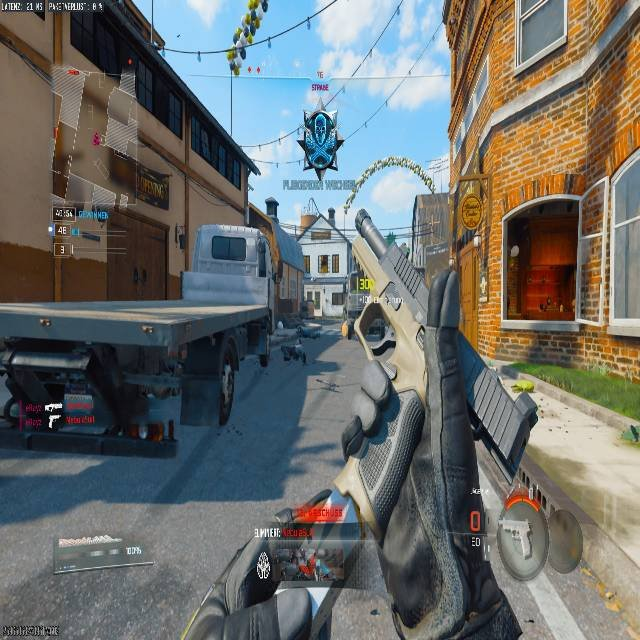player: (296, 107, 345, 179)
